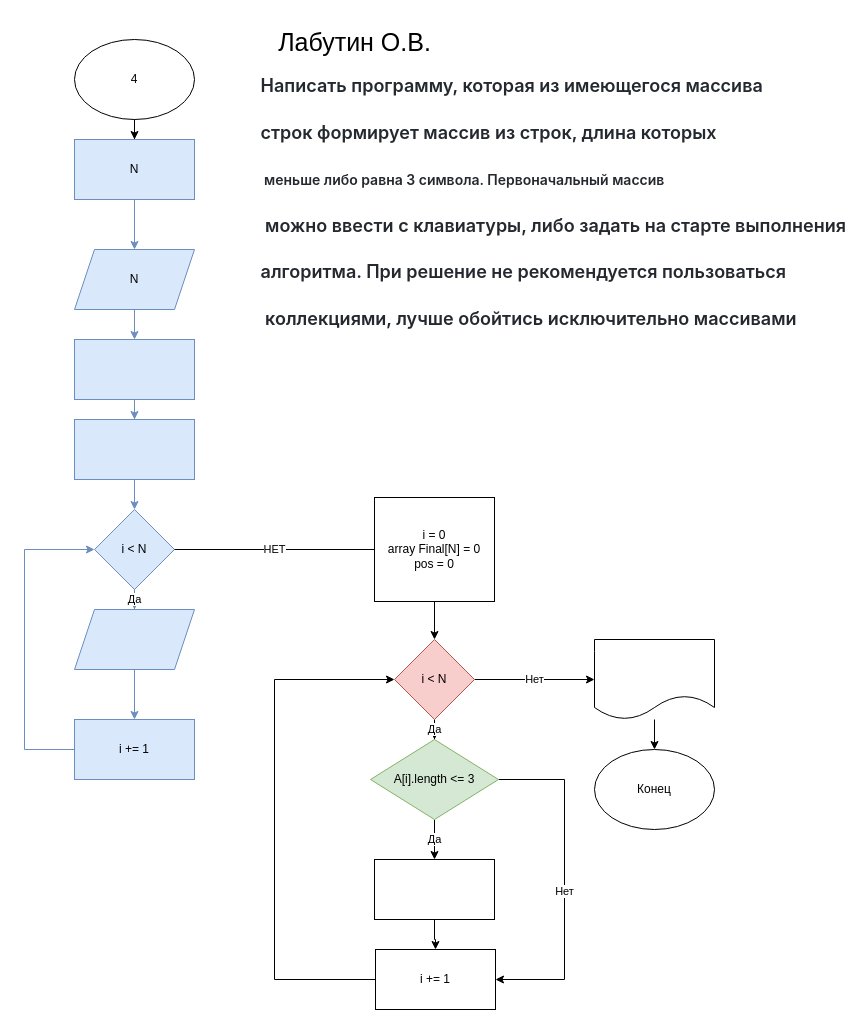
Image size: 868x1027. Some labels were removed from this diagram. The centre of each missing label's shape, as x and y in pixels:
"A[i]" goes at pixel 134 639.
"A[N] - массив" goes at pixel 134 369.
"array Final" goes at pixel 654 679.
"array Final [pos]= A[i] pos +=1" goes at pixel 434 889.
"i = 0" goes at pixel 134 449.
